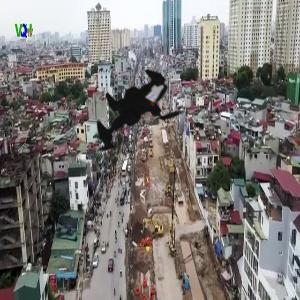drone: (65, 44, 212, 191)
